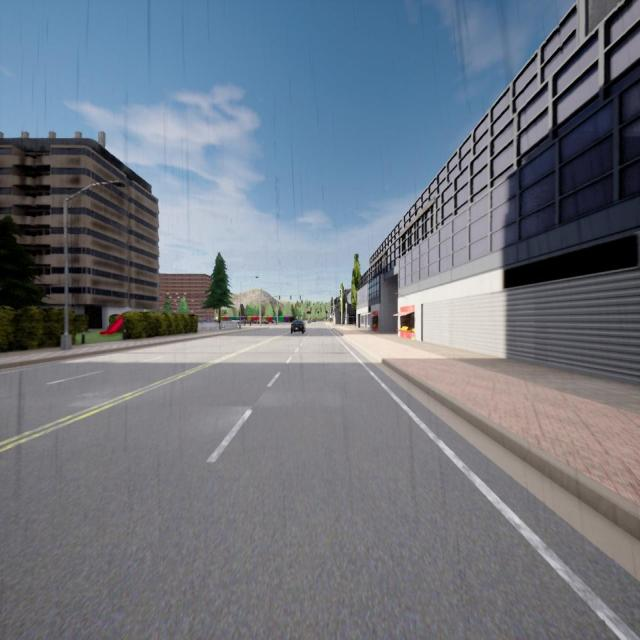Vehicle: (291, 320, 305, 334), (261, 318, 269, 324), (271, 319, 276, 324), (307, 319, 311, 324)
traffic_light: (290, 295, 292, 300), (300, 295, 301, 300), (279, 296, 280, 300)
